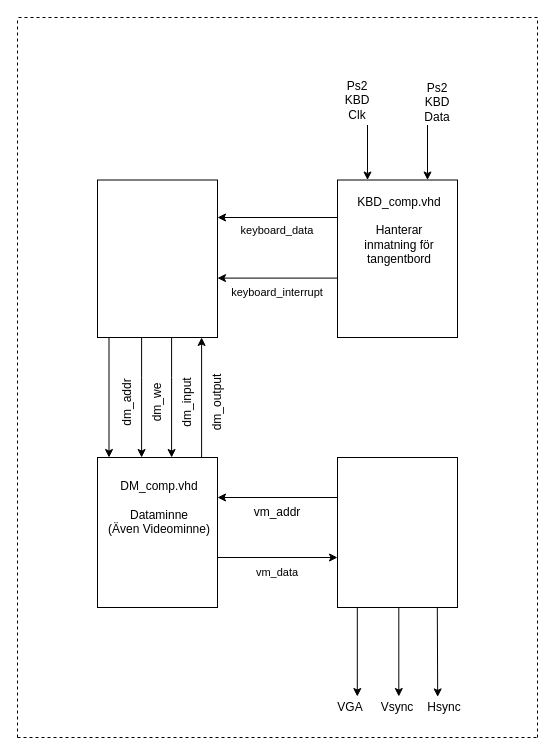
Image size: 556x756. Some labels were removed from this diagram. Here are the shapes that lost their labels. From the top down, the centre of each, then its label:
point 157,258: pipeCPU_comp.vhd Processorn
point 397,532: VGA_comp.vhd Läser videominnet
